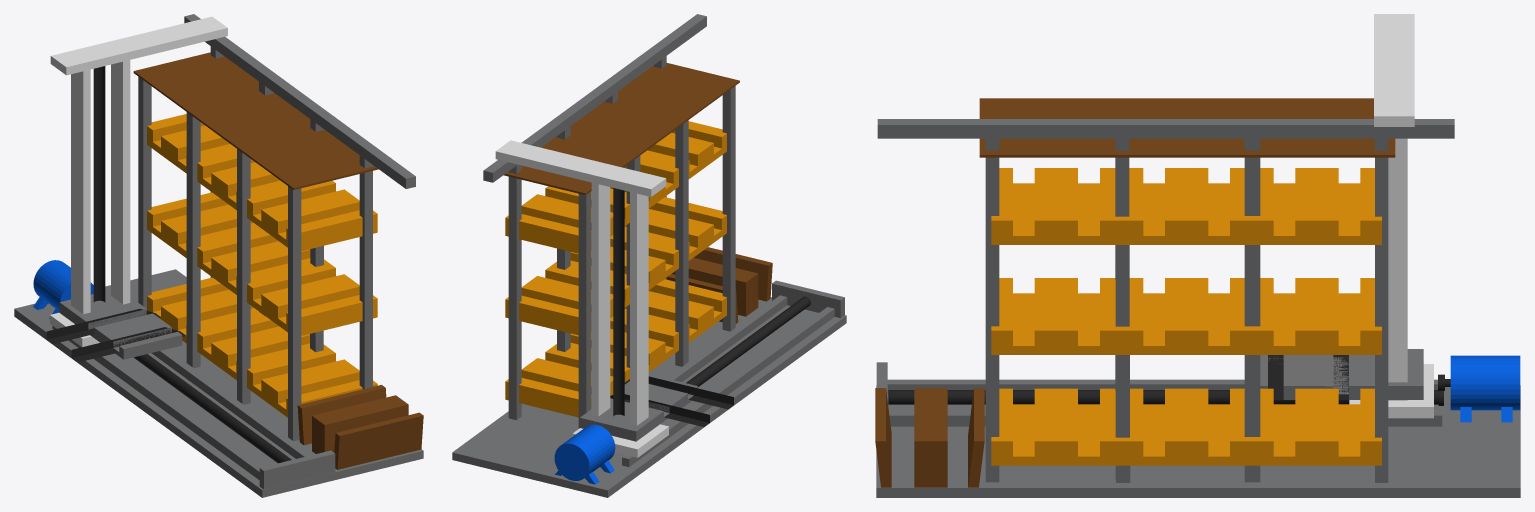
File: Stock.glb
The picture shows the model from 3 angles, left to right: view 1: azimuth 30°, elevation 25°; view 2: azimuth 150°, elevation 25°; view 3: azimuth 270°, elevation 25°; orthographic projection. The views are drawn at different scales.
Parts seen in each view (by area): view 1: Places, Cube, Roof, Tower, RailEnd, ForkPlate, Spindel, xAxis, Forks, Engine; view 2: Cube, Places, Roof, Tower, RailEnd, Spindel, ForkPlate, Engine, Forks, xAxis; view 3: Places, Cube, Roof, RailEnd, Tower, ForkPlate, Engine, xAxis, Forks.
Part boxes in pixels (box(x1,y1,x2,y2)): Places: box(147, 114, 377, 417); Cube: box(14, 46, 423, 497); Roof: box(133, 52, 423, 469); Tower: box(50, 16, 227, 347); RailEnd: box(52, 14, 415, 489); ForkPlate: box(59, 289, 182, 359); Spindel: box(93, 66, 105, 302); xAxis: box(133, 354, 291, 463); Forks: box(46, 308, 185, 362); Engine: box(33, 260, 93, 318); Cube: box(452, 56, 846, 497); Places: box(505, 121, 726, 417); Roof: box(504, 63, 772, 323); Tower: box(495, 140, 668, 457); RailEnd: box(483, 14, 844, 466); Spindel: box(613, 188, 624, 416); ForkPlate: box(579, 374, 697, 441); Engine: box(554, 424, 615, 484); Forks: box(610, 376, 733, 426); xAxis: box(686, 296, 810, 386); Places: box(991, 168, 1381, 465); Cube: box(876, 138, 1520, 497); Roof: box(875, 98, 1395, 487); RailEnd: box(876, 119, 1454, 426); Tower: box(1349, 14, 1433, 418); ForkPlate: box(1260, 349, 1423, 399); Engine: box(1450, 355, 1520, 422); xAxis: box(888, 390, 1443, 405); Forks: box(1268, 355, 1348, 399).
Bounding box in the file's own units: 2.42 × 3.45 × 5.33.
